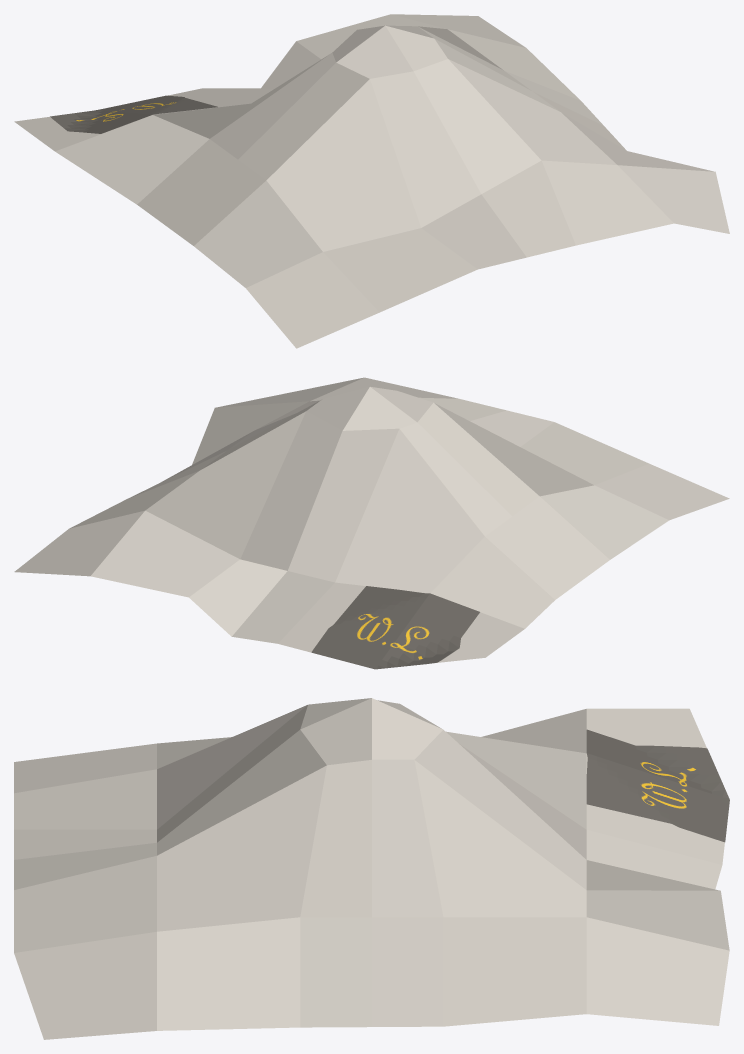
Rendered from Mouchoir.fbx.
3 renders of one model, top to bottom at view 1: azimuth 30°, elevation 25°; view 2: azimuth 150°, elevation 25°; view 3: azimuth 270°, elevation 25°, orthographic. The views are drawn at different scales.
Parts seen in each view (by area): view 1: Plane, initial; view 2: Plane, initial; view 3: Plane, initial.
Boxes of the visible parts, <box> form: Plane: <box>14,14,729,348</box>; initial: <box>50,95,217,133</box>; Plane: <box>14,377,729,663</box>; initial: <box>311,586,479,669</box>; Plane: <box>14,698,729,1039</box>; initial: <box>586,729,729,842</box>.
Bounding box in the file's own units: 200 × 64.6 × 200.
2 materials, 1 textured.
